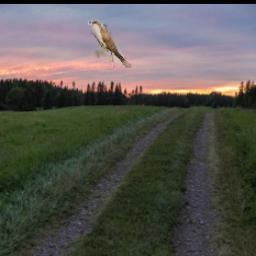Cuckoo: (88, 21, 132, 69)
